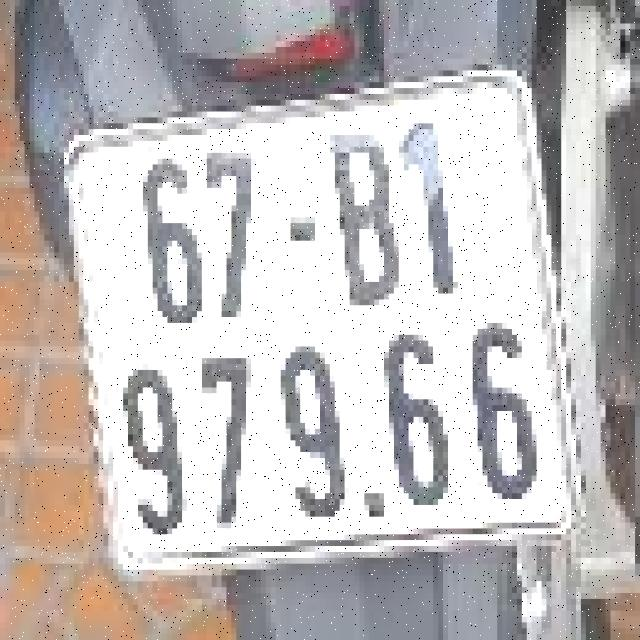1: (396, 118, 466, 300)
6: (379, 329, 453, 517), (468, 317, 542, 499), (138, 158, 202, 329)
7: (197, 352, 256, 534), (202, 144, 256, 320)
9: (273, 338, 352, 520), (113, 355, 187, 537)
B: (325, 129, 399, 305)
